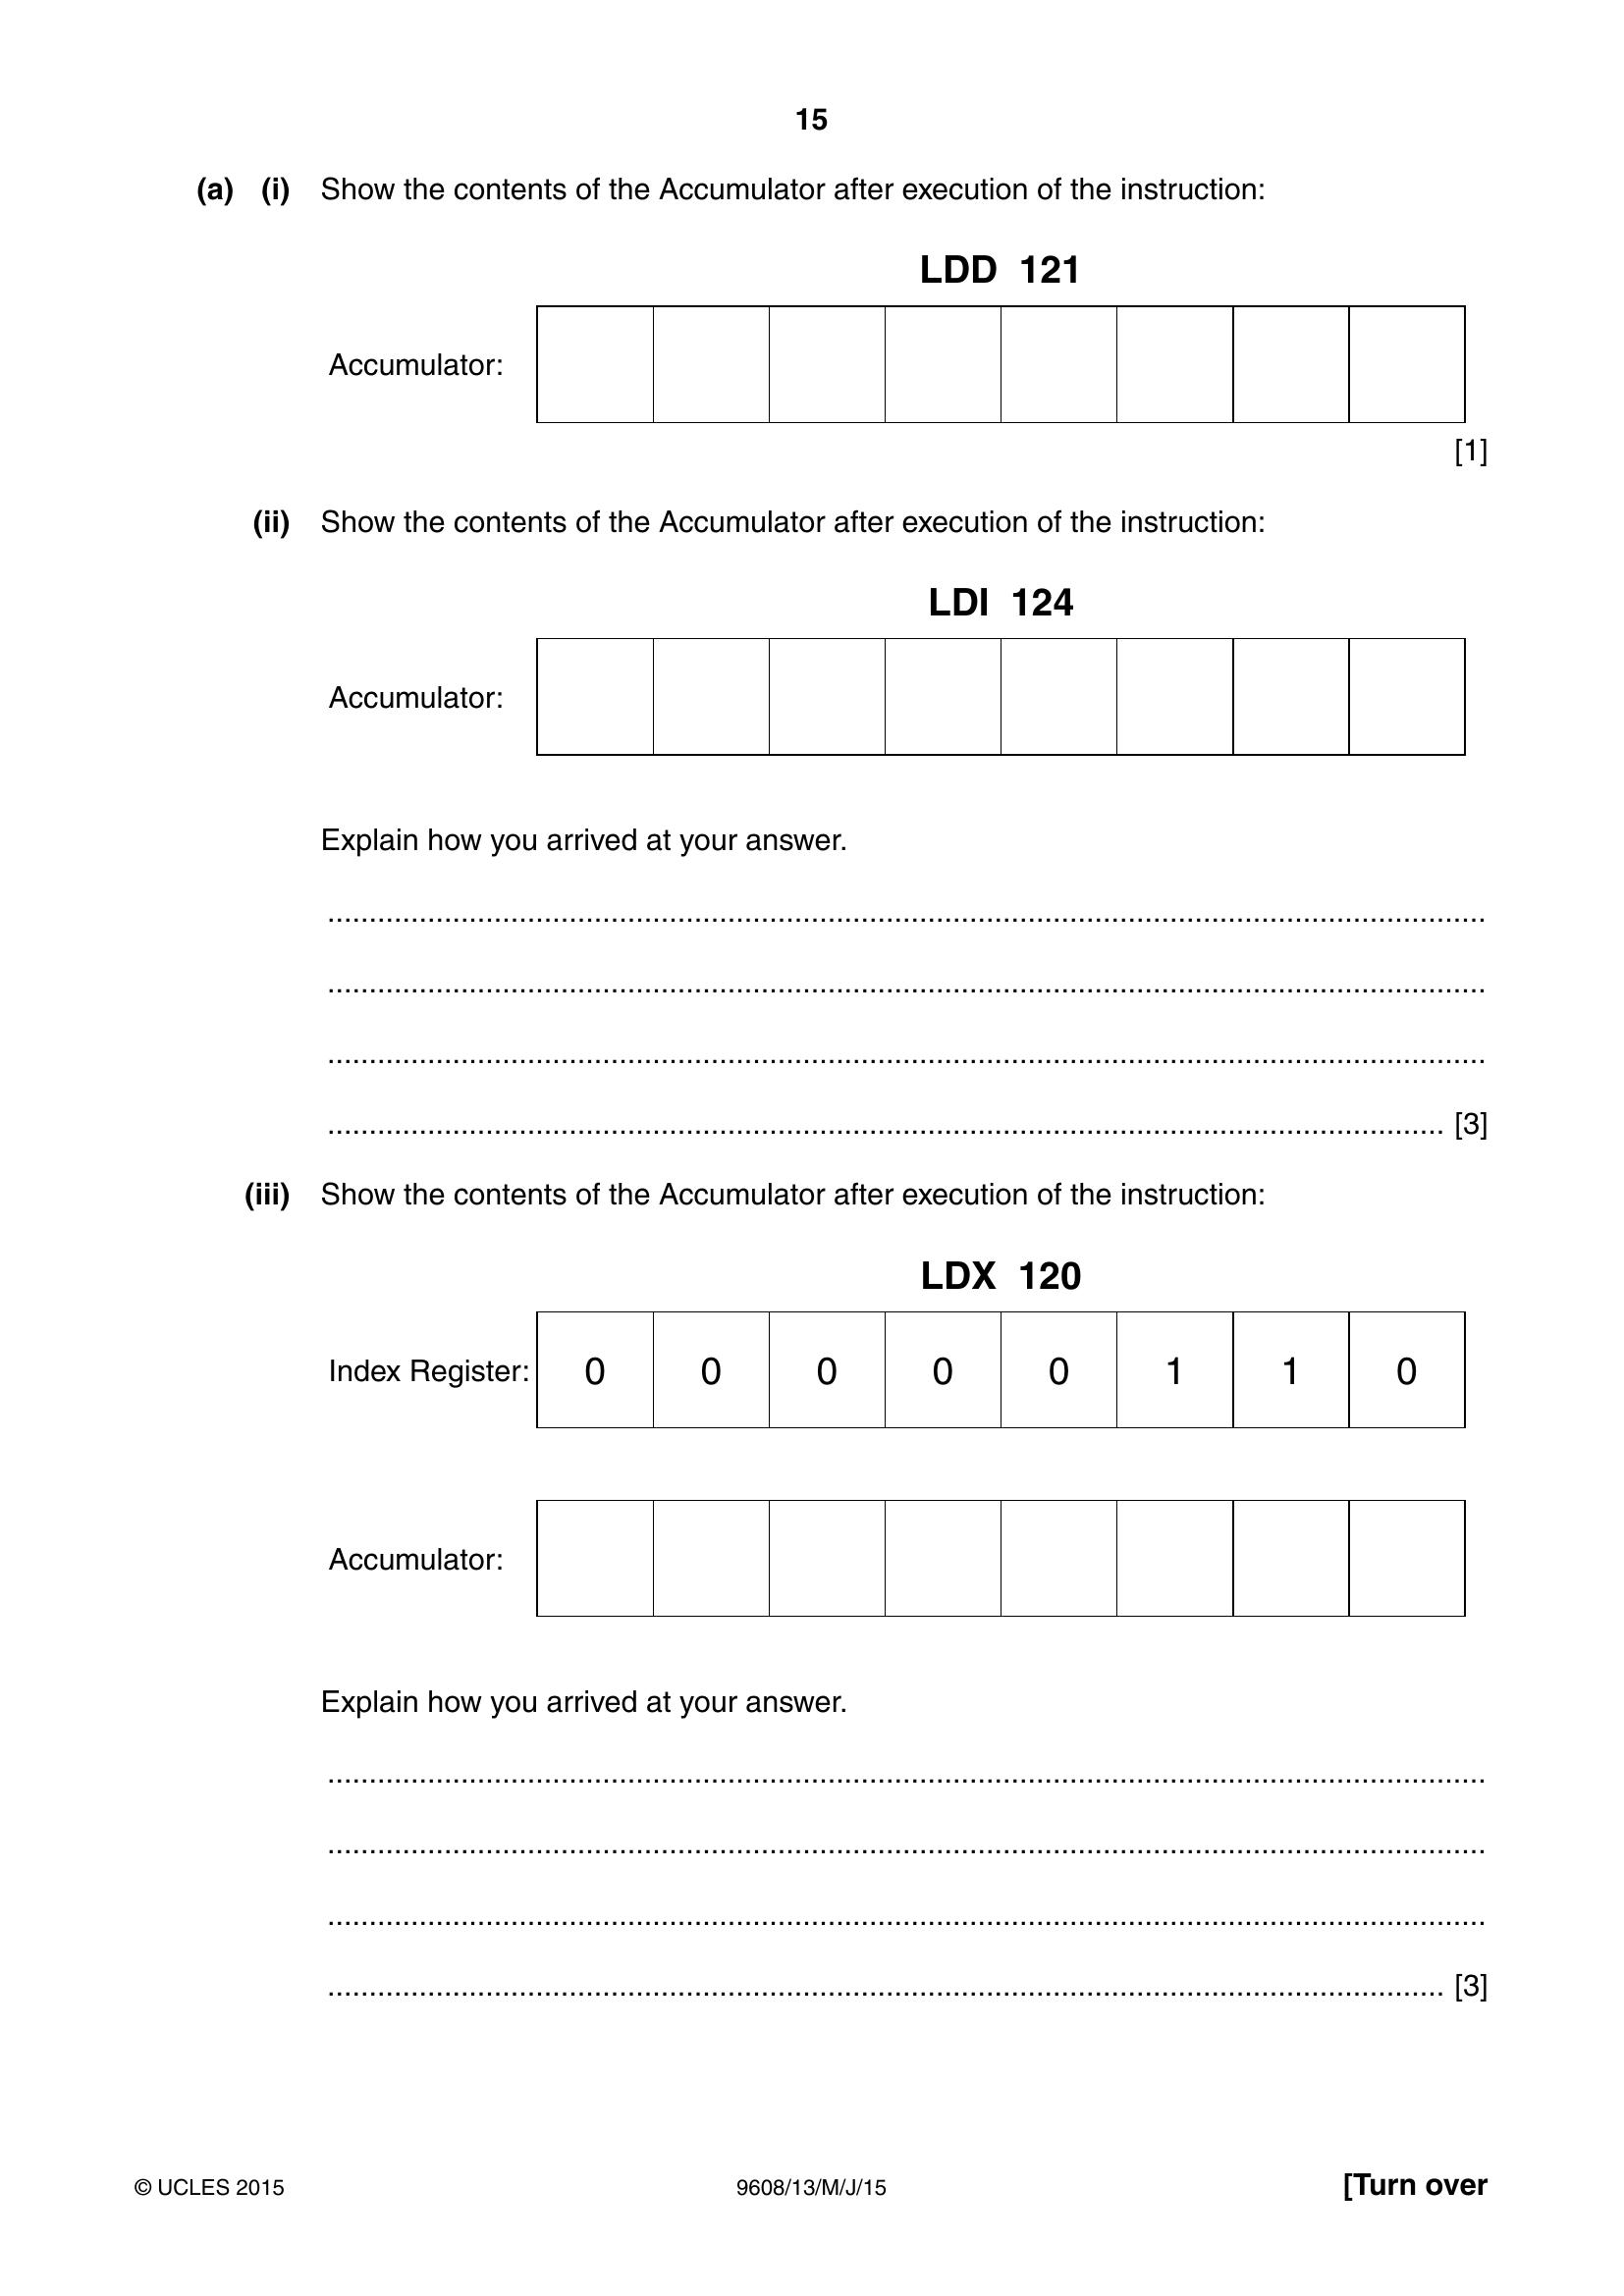continued question: (11, 142, 1622, 2043)
